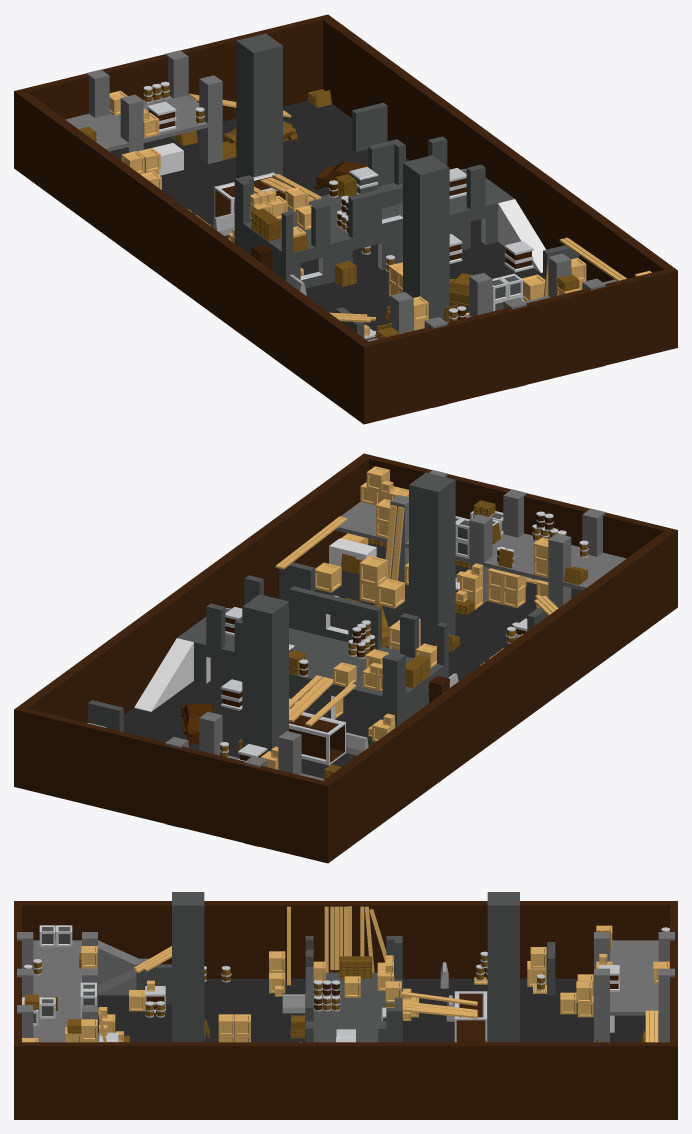
Rendered from map.fbx.
3 views of the same model, one above another, from view 1: azimuth 30°, elevation 25°; view 2: azimuth 150°, elevation 25°; view 3: azimuth 270°, elevation 25° (orthographic). The views are drawn at different scales.
Visible parts, largest first — view 1: floors, room, Plane, Cube.016, obj.048, obj.049, Cube.004, Cube.001, obj.004, Cube.005, BigBox.004, Cube.011 (+2 smaller); view 2: floors, room, Plane, Cube.004, obj.048, obj.049, Cube.016, Cube.002, Cube.005, obj.002, obj.004, Cube.017 (+4 smaller); view 3: floors, Plane, Cube.016, Cube.004, room, obj.048, obj.049, up2, Cube.005, Cube.030, obj.024, Cube.023 (+17 smaller).
Part boxes in pixels (bbox=[...]): floors: bbox=[14, 14, 677, 424]; room: bbox=[234, 136, 514, 288]; Plane: bbox=[110, 101, 542, 330]; Cube.016: bbox=[65, 50, 222, 164]; obj.048: bbox=[403, 155, 449, 319]; obj.049: bbox=[236, 33, 282, 178]; Cube.004: bbox=[367, 253, 616, 407]; Cube.001: bbox=[498, 199, 545, 272]; obj.004: bbox=[351, 102, 387, 151]; Cube.005: bbox=[214, 172, 286, 217]; BigBox.004: bbox=[504, 241, 533, 272]; Cube.011: bbox=[153, 143, 183, 175]; floors: bbox=[14, 453, 677, 863]; room: bbox=[177, 575, 448, 731]; Plane: bbox=[124, 543, 581, 778]; Cube.004: bbox=[335, 470, 626, 608]; obj.048: bbox=[409, 472, 455, 645]; obj.049: bbox=[242, 594, 288, 752]; Cube.016: bbox=[165, 712, 323, 846]; Cube.002: bbox=[134, 638, 193, 711]; Cube.005: bbox=[289, 709, 345, 765]; obj.002: bbox=[279, 562, 315, 601]; obj.004: bbox=[88, 700, 123, 731]; Cube.017: bbox=[329, 538, 376, 566]; floors: bbox=[14, 901, 677, 1119]; Plane: bbox=[98, 978, 658, 1042]; Cube.016: bbox=[594, 932, 674, 1042]; Cube.004: bbox=[17, 932, 97, 1042]; room: bbox=[305, 936, 402, 1042]; obj.048: bbox=[172, 892, 204, 1042]; obj.049: bbox=[487, 892, 519, 1042]; up2: bbox=[98, 940, 148, 995]; Cube.005: bbox=[454, 991, 487, 1042]; Cube.030: bbox=[330, 906, 347, 969]; obj.024: bbox=[136, 964, 171, 1004]; Cube.023: bbox=[360, 906, 374, 972].
Bounding box in the file's own units: 850 × 405 × 1640.
